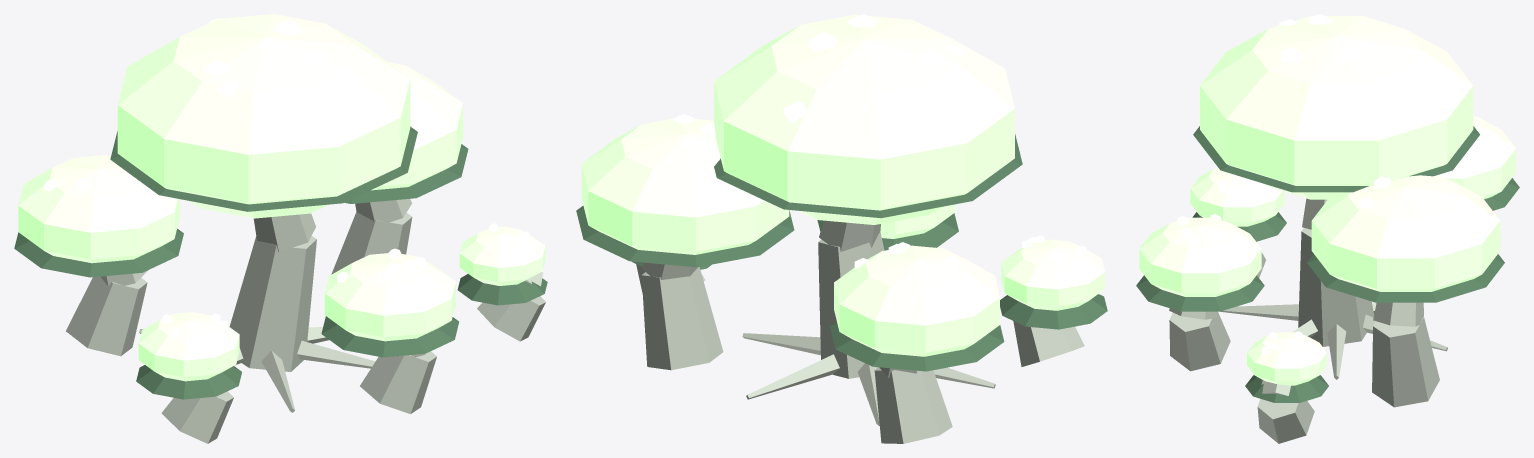
File: mushroom_glow.glb
3 views of the same model, side by side, from view 1: azimuth 30°, elevation 25°; view 2: azimuth 150°, elevation 25°; view 3: azimuth 270°, elevation 25° (orthographic). The views are drawn at different scales.
Visible parts, largest first — view 1: mushroom_glow; view 2: mushroom_glow; view 3: mushroom_glow.
Boxes of the visible parts, x1,y1,x2,y2 form: mushroom_glow: (14, 14, 547, 443); mushroom_glow: (576, 14, 1107, 443); mushroom_glow: (1136, 14, 1519, 443).
Size of the model in its own units: 1.83 by 1.37 by 1.55.
